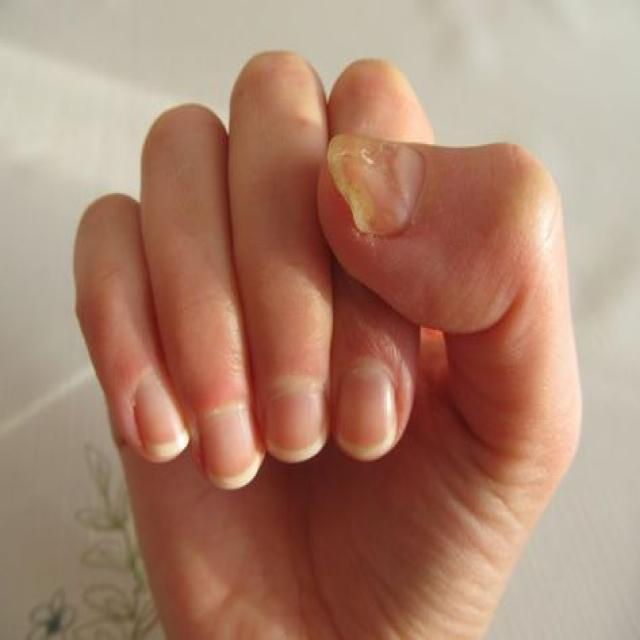Fingernail: (328, 134, 425, 235), (336, 366, 398, 462), (135, 372, 190, 462), (202, 407, 261, 490), (266, 391, 326, 463)
